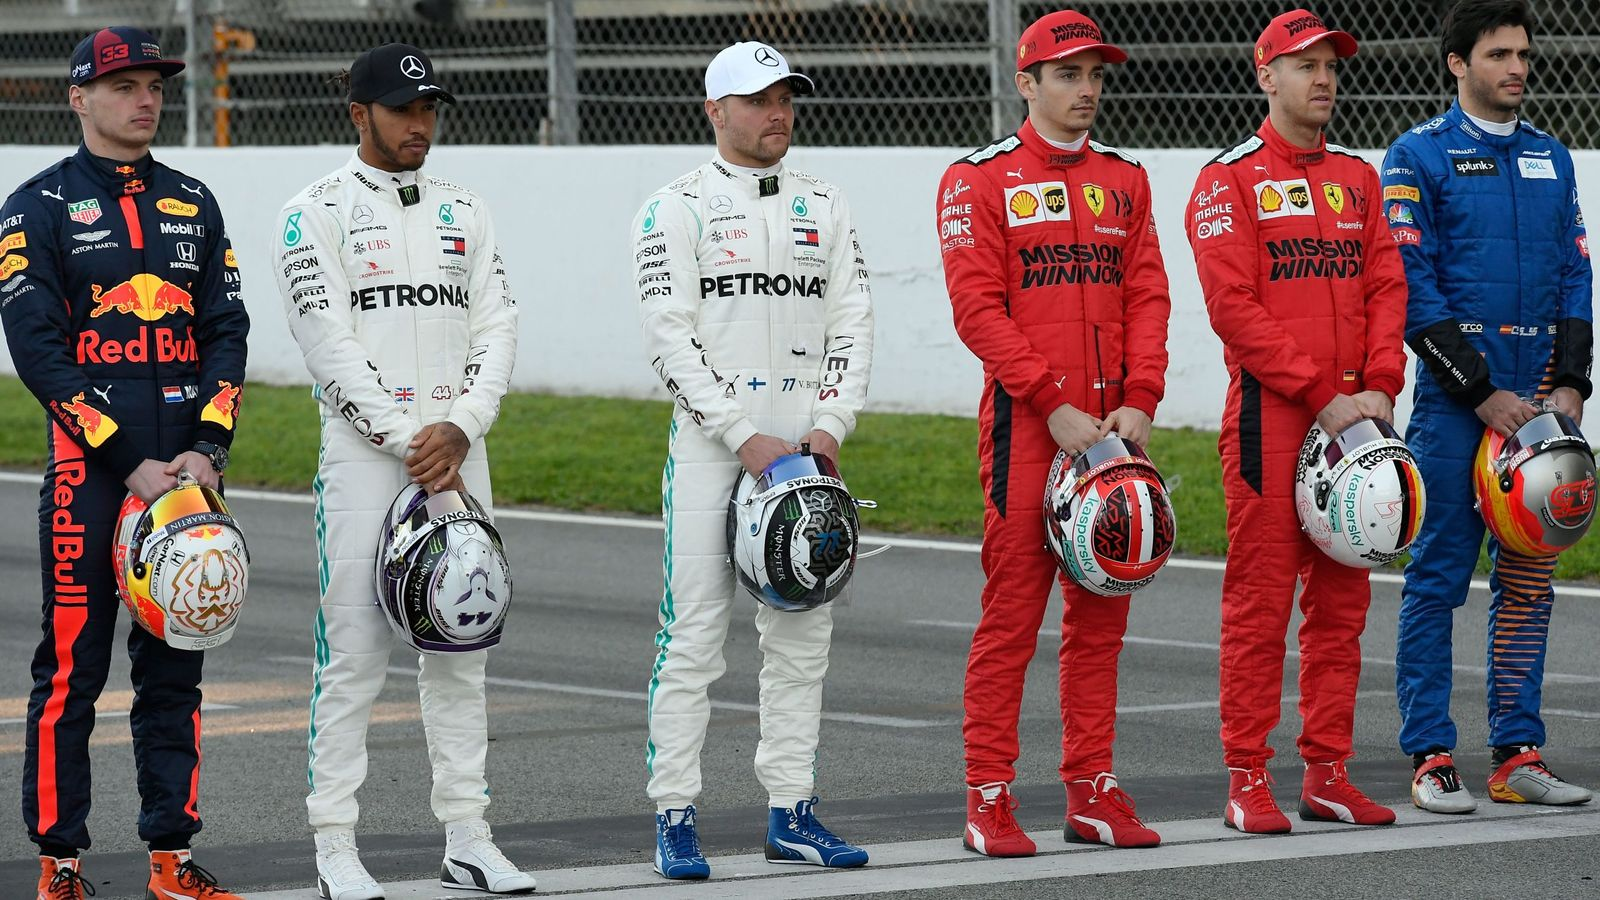without_mask: (95, 77, 161, 142), (730, 92, 790, 156), (1045, 64, 1098, 127), (375, 106, 432, 161), (1475, 42, 1525, 101), (1291, 56, 1335, 119)
